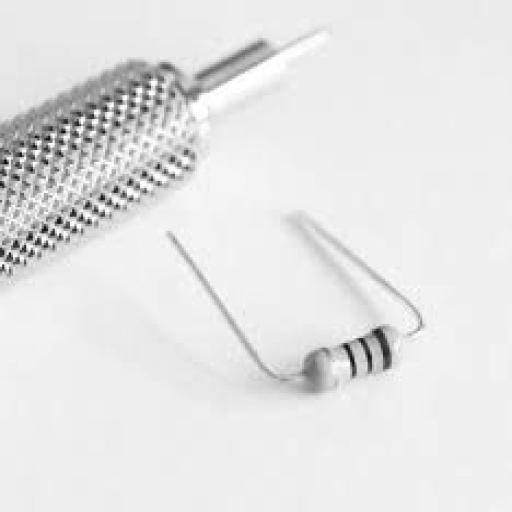RESISTOR: (236, 259, 426, 453)
